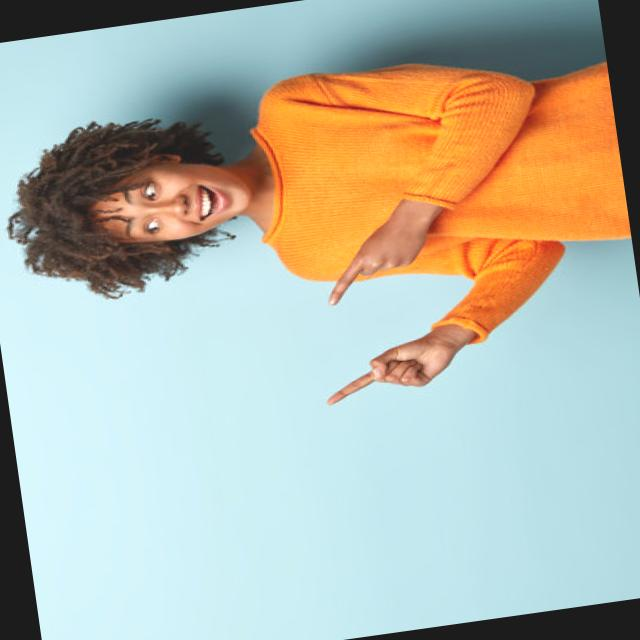Hand: (316, 322, 472, 412), (313, 206, 443, 310)
